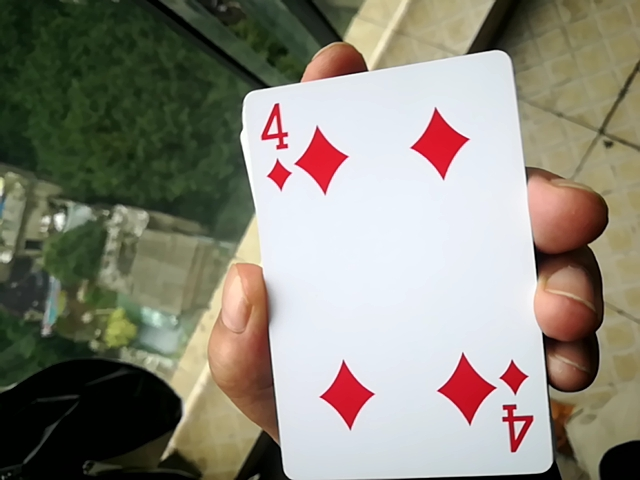fk 4: (226, 32, 542, 480)
